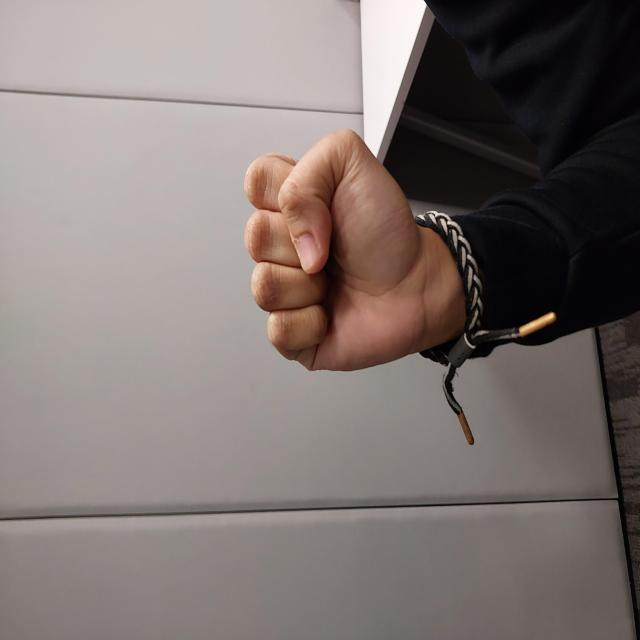S: (267, 243, 512, 426)
